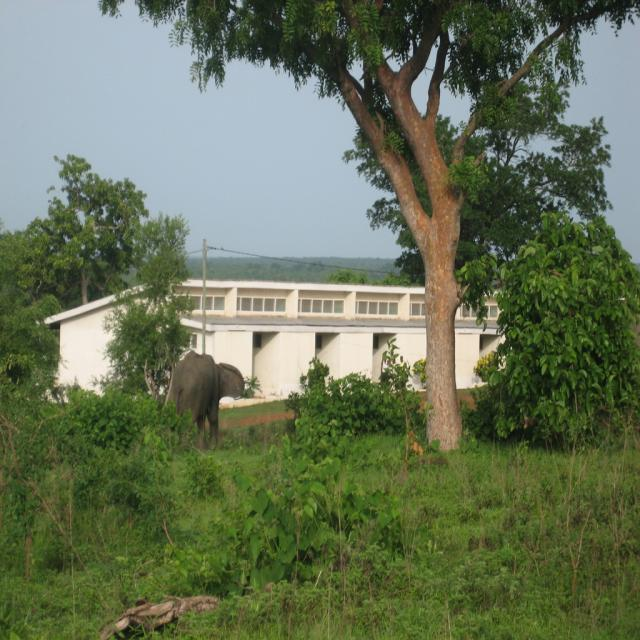elephant: (168, 346, 245, 446)
